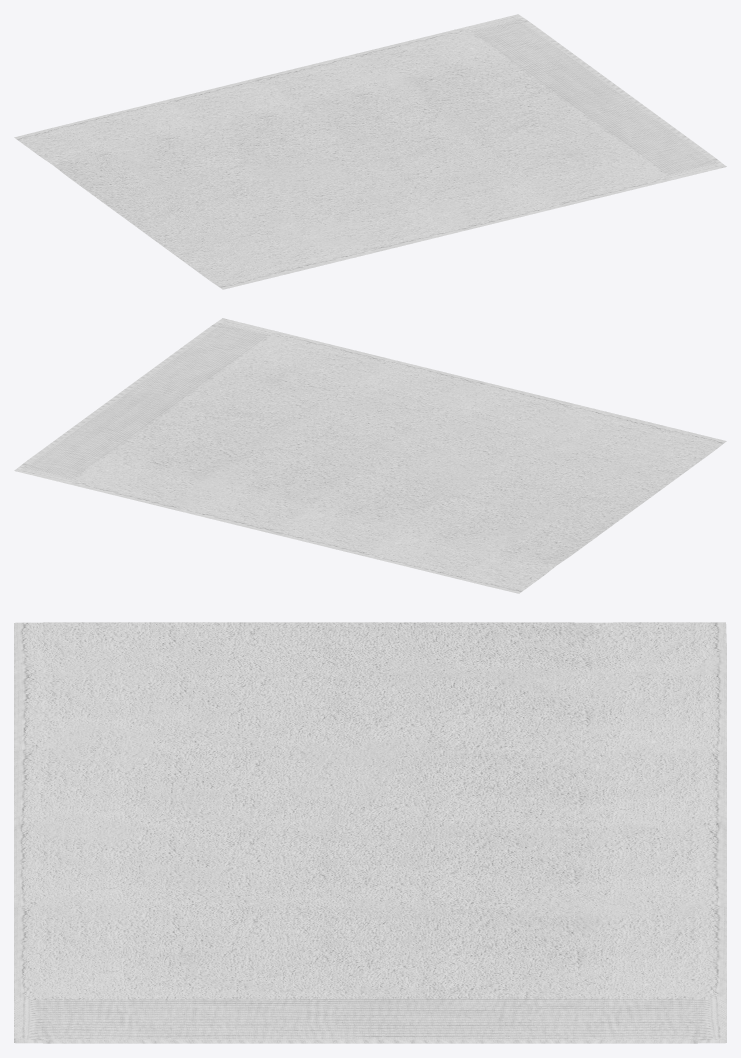
Rendered from TowelOptimized.fbx.
3 views of the same model, one above another, from view 1: azimuth 30°, elevation 25°; view 2: azimuth 150°, elevation 25°; view 3: azimuth 270°, elevation 25° (orthographic). The views are drawn at different scales.
Parts seen in each view (by area): view 1: Plane; view 2: Plane; view 3: Plane.
Boxes of the visible parts, x1=… form: Plane: x1=14, y1=14, x2=726, y2=289; Plane: x1=14, y1=318, x2=726, y2=593; Plane: x1=14, y1=622, x2=726, y2=1043.
Size of the model in its own units: 279 by 0.067 by 200.
1 material, 1 textured.
